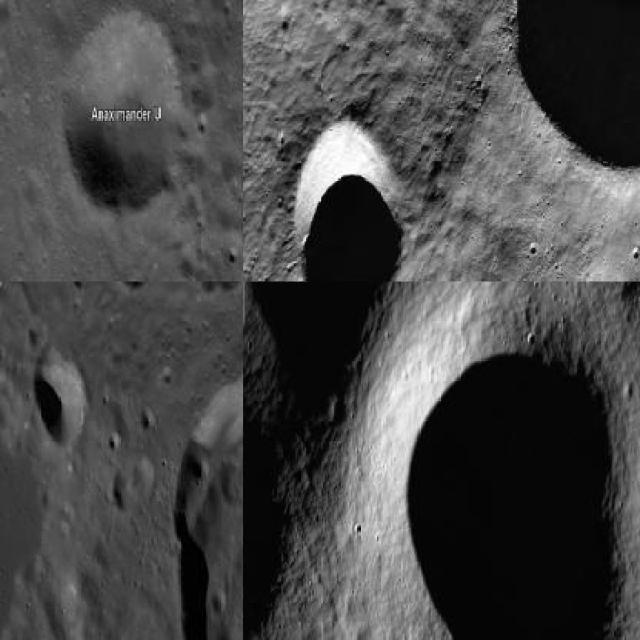crater: (389, 338, 631, 638), (496, 0, 638, 174), (60, 16, 183, 216), (174, 312, 241, 638), (292, 117, 410, 280), (34, 346, 86, 451)
